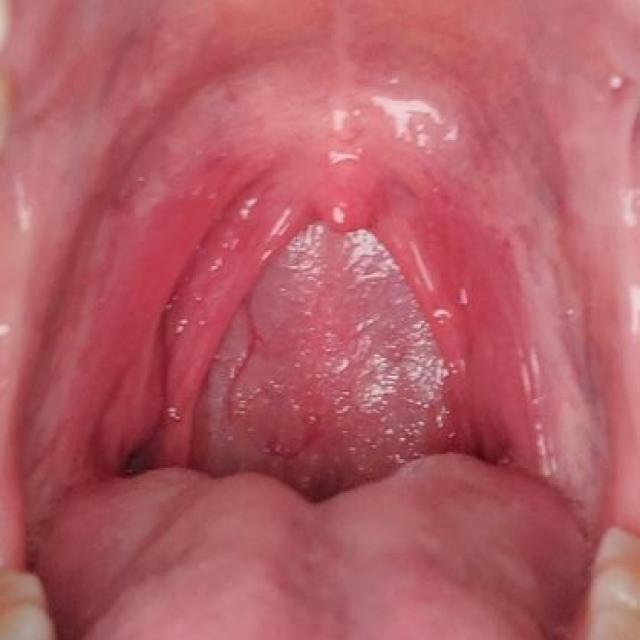Non Pharyngitis: (69, 227, 295, 495), (479, 223, 625, 487)
